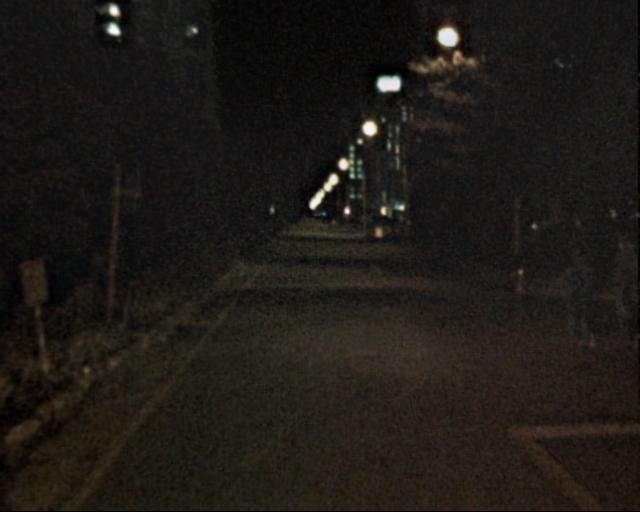person: (557, 238, 603, 353), (602, 225, 640, 353)
